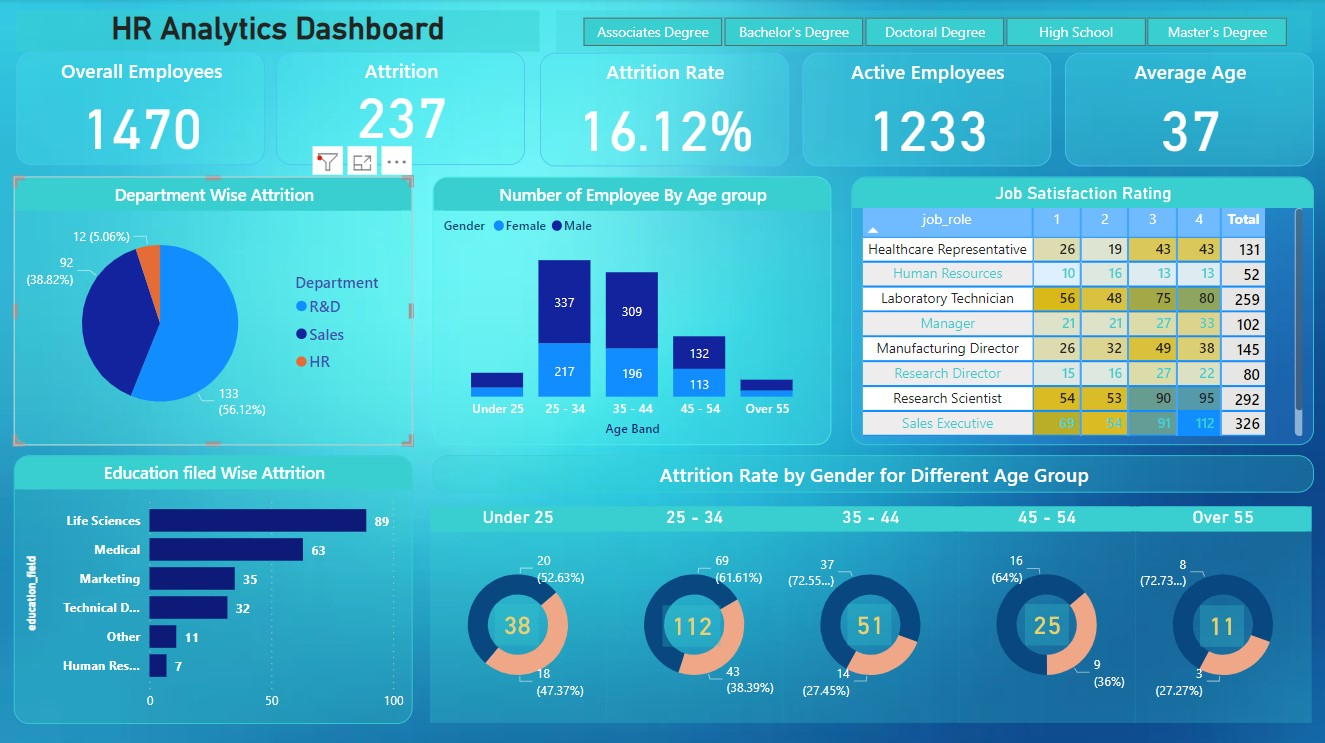

This screenshot's page, from the dashboard's own definition file:
{"tool":"powerbi","page":{"name":"Dashboard","canvas":[1280,720],"ordinal":0},"visuals":[{"type":"card","title":"Overall Employees","fields":{"Values":["Sum(hrdata.employee_count)"]},"box":[15.7,50.7,240,109.7],"z":0},{"type":"card","title":"Attrition","fields":{"Values":["Sum(hrdata.Attrirtion Count)"]},"box":[266.8,51,240,109.7],"z":1000},{"type":"card","title":"Attrition Rate","fields":{"Values":["hrdata.Attrition_Rate"]},"box":[520.4,51.3,240,109.7],"z":2000},{"type":"card","title":"Active Employees","fields":{"Values":["hrdata.Active Employees"]},"box":[774,51.6,240,109.7],"z":3000},{"type":"card","title":"Average Age ","fields":{"Values":["Avg(hrdata.age)"]},"box":[1027.5,51.9,240,109.7],"z":4000},{"type":"pieChart","title":"Department Wise Attrition","fields":{"Category":["hrdata.department"],"Y":["Sum(hrdata.Attrirtion Count)"]},"box":[13.3,171.3,384.7,259.3],"z":5000},{"type":"columnChart","title":"Number of Employee By Age group ","fields":{"Category":["hrdata.age_band"],"Y":["Sum(hrdata.employee_count)"],"Series":["hrdata.gender"]},"box":[417.3,171.3,384.7,259.3],"z":6000},{"type":"pivotTable","title":"Job Satisfaction Rating ","fields":{"Rows":["hrdata.job_role"],"Columns":["hrdata.job_satisfaction"],"Values":["Sum(hrdata.employee_count)"]},"box":[821.3,171.3,446.2,259.3],"z":7000},{"type":"barChart","title":"Education filed Wise Attrition ","fields":{"Category":["hrdata.education_field"],"Y":["Sum(hrdata.Attrirtion Count)"]},"box":[13,440,385,259],"z":8000},{"type":"donutChart","title":"Under 25","fields":{"Category":["hrdata.gender"],"Y":["Sum(hrdata.Attrirtion Count)"],"Series":["hrdata.age_band"]},"box":[415.1,490.2,170.1,208.6],"z":9000},{"type":"textbox","title":"Attrition Rate by Gender for Different Age Group ","box":[417.2,440.5,850.8,35.7],"z":10000},{"type":"donutChart","title":"25 - 34","fields":{"Category":["hrdata.gender"],"Y":["Sum(hrdata.Attrirtion Count)"],"Series":["hrdata.age_band"]},"box":[585.1,490.2,170.1,208.6],"z":11000},{"type":"donutChart","title":"35 - 44","fields":{"Category":["hrdata.gender"],"Y":["Sum(hrdata.Attrirtion Count)"],"Series":["hrdata.age_band"]},"box":[755.2,490.2,170.1,208.6],"z":12000},{"type":"donutChart","title":"45 - 54","fields":{"Category":["hrdata.gender"],"Y":["Sum(hrdata.Attrirtion Count)"],"Series":["hrdata.age_band"]},"box":[925.2,490.2,170.1,208.6],"z":13000},{"type":"donutChart","title":"Over 55","fields":{"Category":["hrdata.gender"],"Y":["Sum(hrdata.Attrirtion Count)"],"Series":["hrdata.age_band"]},"box":[1095.3,490.2,170.1,208.6],"z":14000},{"type":"card","fields":{"Values":["Sum(hrdata.Attrirtion Count)"]},"box":[1158.2,584.6,42.5,39.8],"z":15000},{"type":"card","fields":{"Values":["Sum(hrdata.Attrirtion Count)"]},"box":[989.4,583.2,42.5,39.8],"z":16000},{"type":"card","fields":{"Values":["Sum(hrdata.Attrirtion Count)"]},"box":[817.8,583.2,42.5,39.8],"z":17000},{"type":"card","fields":{"Values":["Sum(hrdata.Attrirtion Count)"]},"box":[639.5,584.6,56.3,39.8],"z":18000},{"type":"card","fields":{"Values":["Sum(hrdata.Attrirtion Count)"]},"box":[477.5,583.2,42.5,39.8],"z":18001},{"type":"textbox","title":"HR Analytics Dashboard","box":[15.1,11,505,39.8],"z":18002},{"type":"slicer","fields":{"Values":["hrdata.education"]},"box":[536.5,11,728.6,41.2],"z":18003}]}

Visuals, with their boxes in screenshot pixels (x1, y1, x2, y2), scaled from the page's 1280x720 canvas onto the 1325x743 screenshot:
"Overall Employees" card: 16 52 265 166
"Attrition" card: 276 53 525 166
"Attrition Rate" card: 539 53 787 166
"Active Employees" card: 801 53 1050 166
"Average Age " card: 1064 54 1312 167
"Department Wise Attrition" pieChart: 14 177 412 444
"Number of Employee By Age group " columnChart: 432 177 830 444
"Job Satisfaction Rating " pivotTable: 850 177 1312 444
"Education filed Wise Attrition " barChart: 13 454 412 721
"Under 25" donutChart: 430 506 606 721
"Attrition Rate by Gender for Different Age Group " textbox: 432 455 1313 491
"25 - 34" donutChart: 606 506 782 721
"35 - 44" donutChart: 782 506 958 721
"45 - 54" donutChart: 958 506 1134 721
"Over 55" donutChart: 1134 506 1310 721
card - Sum(hrdata.Attrirtion Count): 1199 603 1243 644
card - Sum(hrdata.Attrirtion Count): 1024 602 1068 643
card - Sum(hrdata.Attrirtion Count): 847 602 891 643
card - Sum(hrdata.Attrirtion Count): 662 603 720 644
card - Sum(hrdata.Attrirtion Count): 494 602 538 643
"HR Analytics Dashboard" textbox: 16 11 538 52
slicer - hrdata.education: 555 11 1310 54
